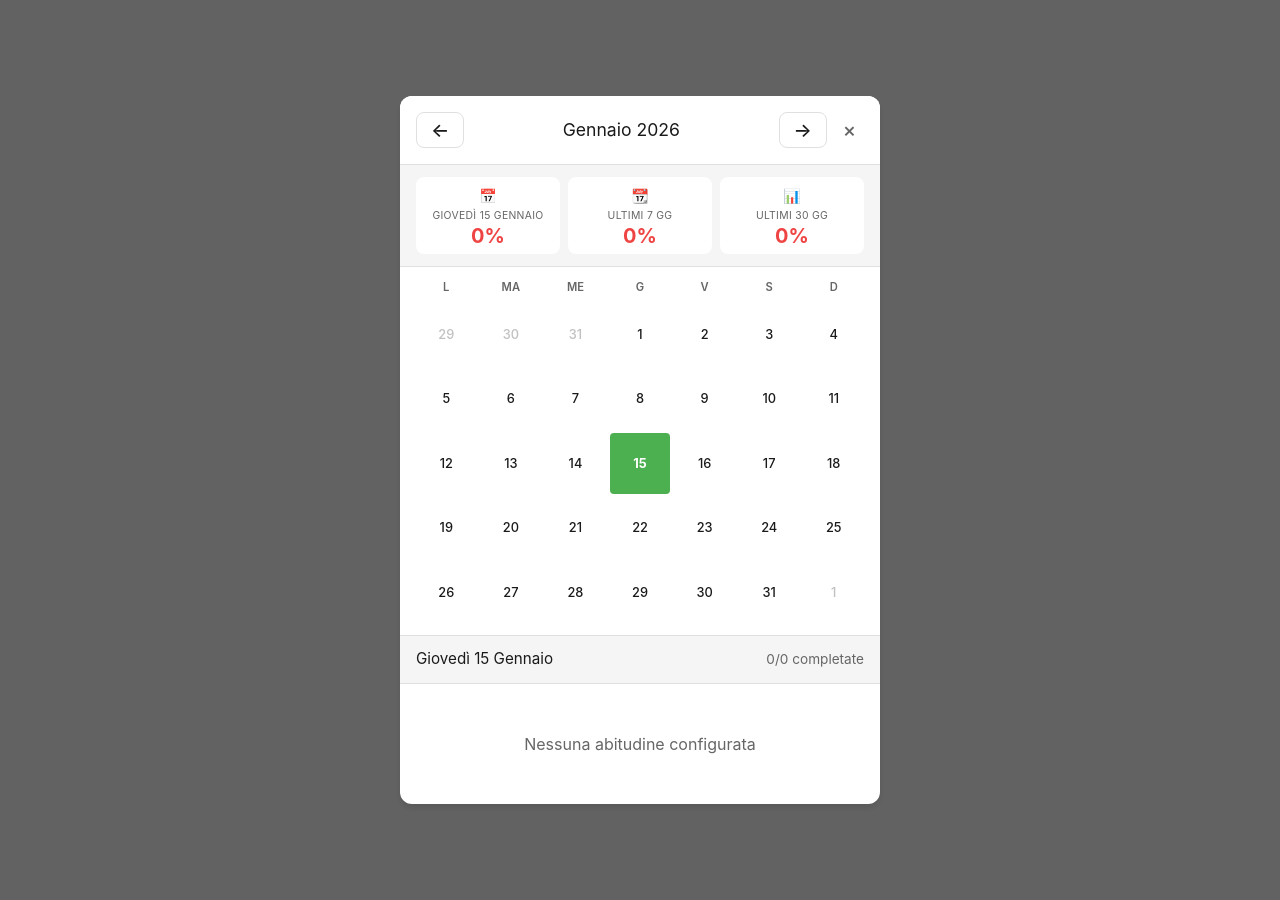
Test case: DayView - interazioni › should navigate to next month when clicking →
Click the button titled "Mese successivo".
click(803, 130)  # box [779, 112, 827, 148]
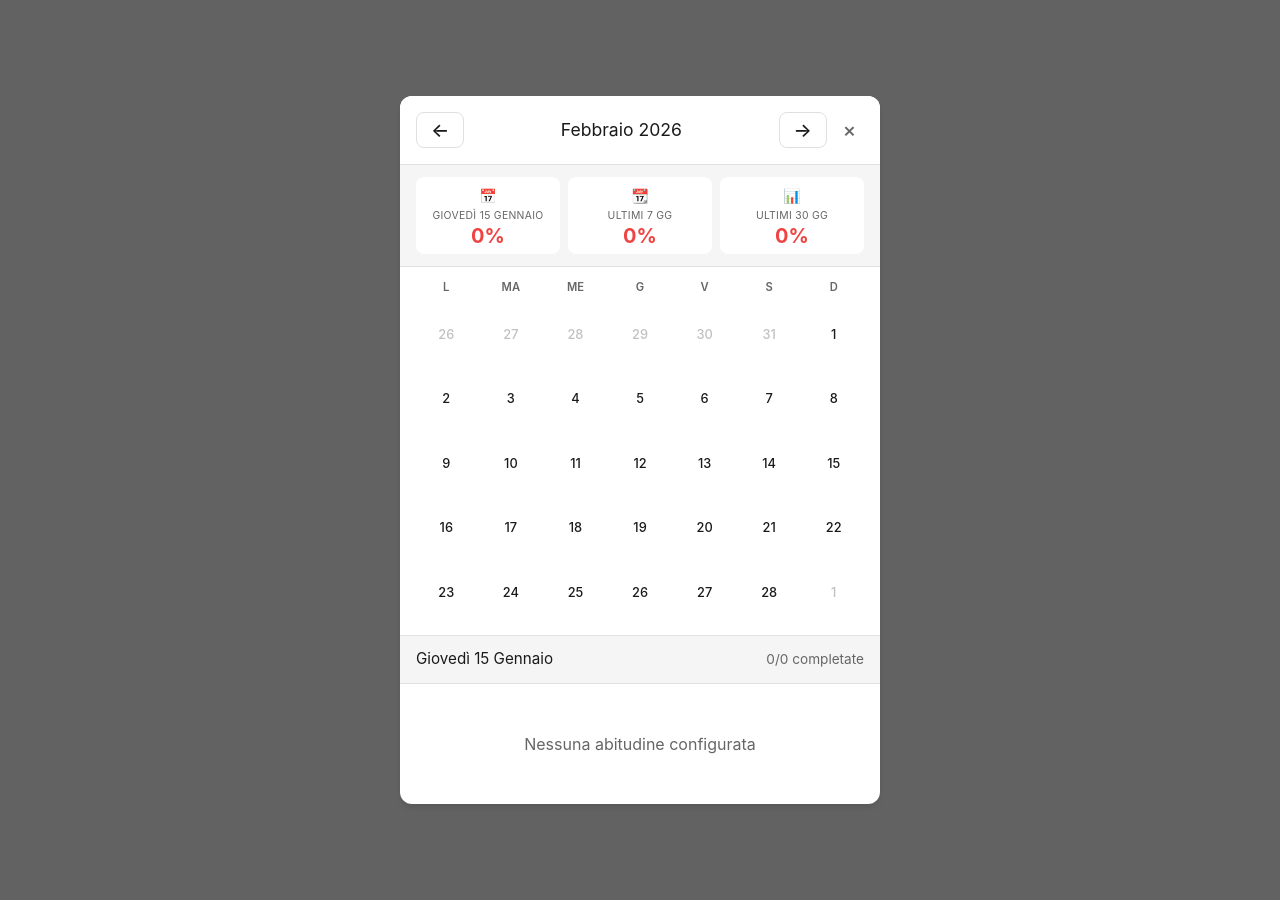
Expected: the heading "Febbraio 2026" is shown, [561, 119, 682, 140]
